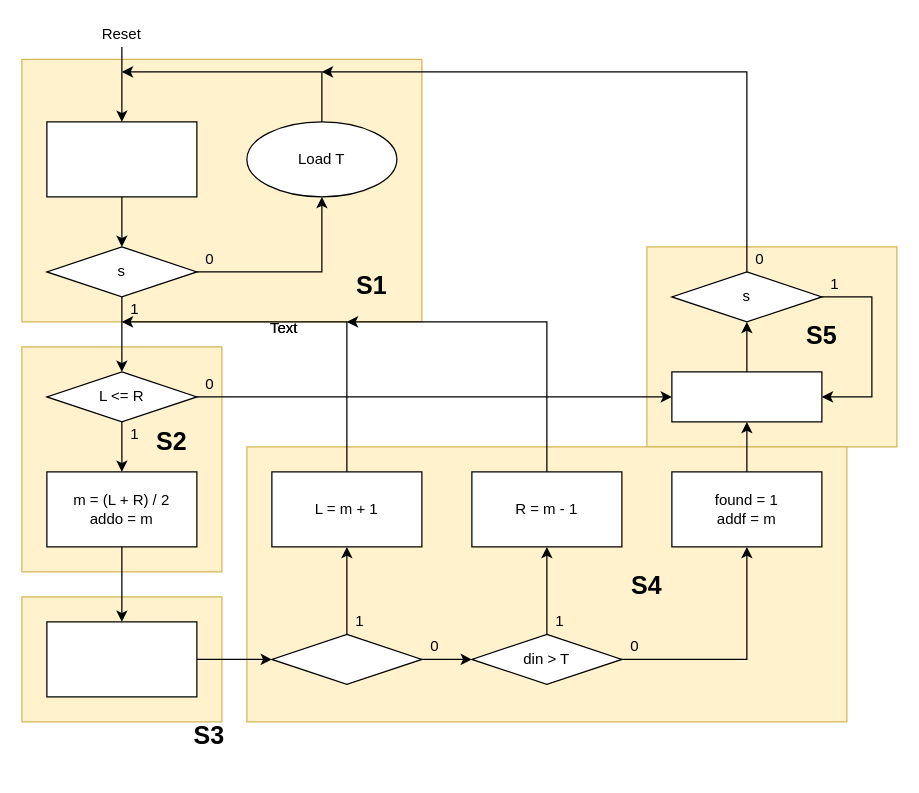
The diagram is 919 pixels wide and 793 high, and some of its shapes have lost their labels. The box of each missing label's shape, as (x1, y1, x2, y2) in pixels:
din < T: (271, 633, 422, 684)
done: (671, 371, 822, 422)
found = 0 addf = 0 m = R = L = 0: (46, 121, 197, 197)
Wait 1 clock signal to send the address and get the value: (46, 621, 197, 697)
